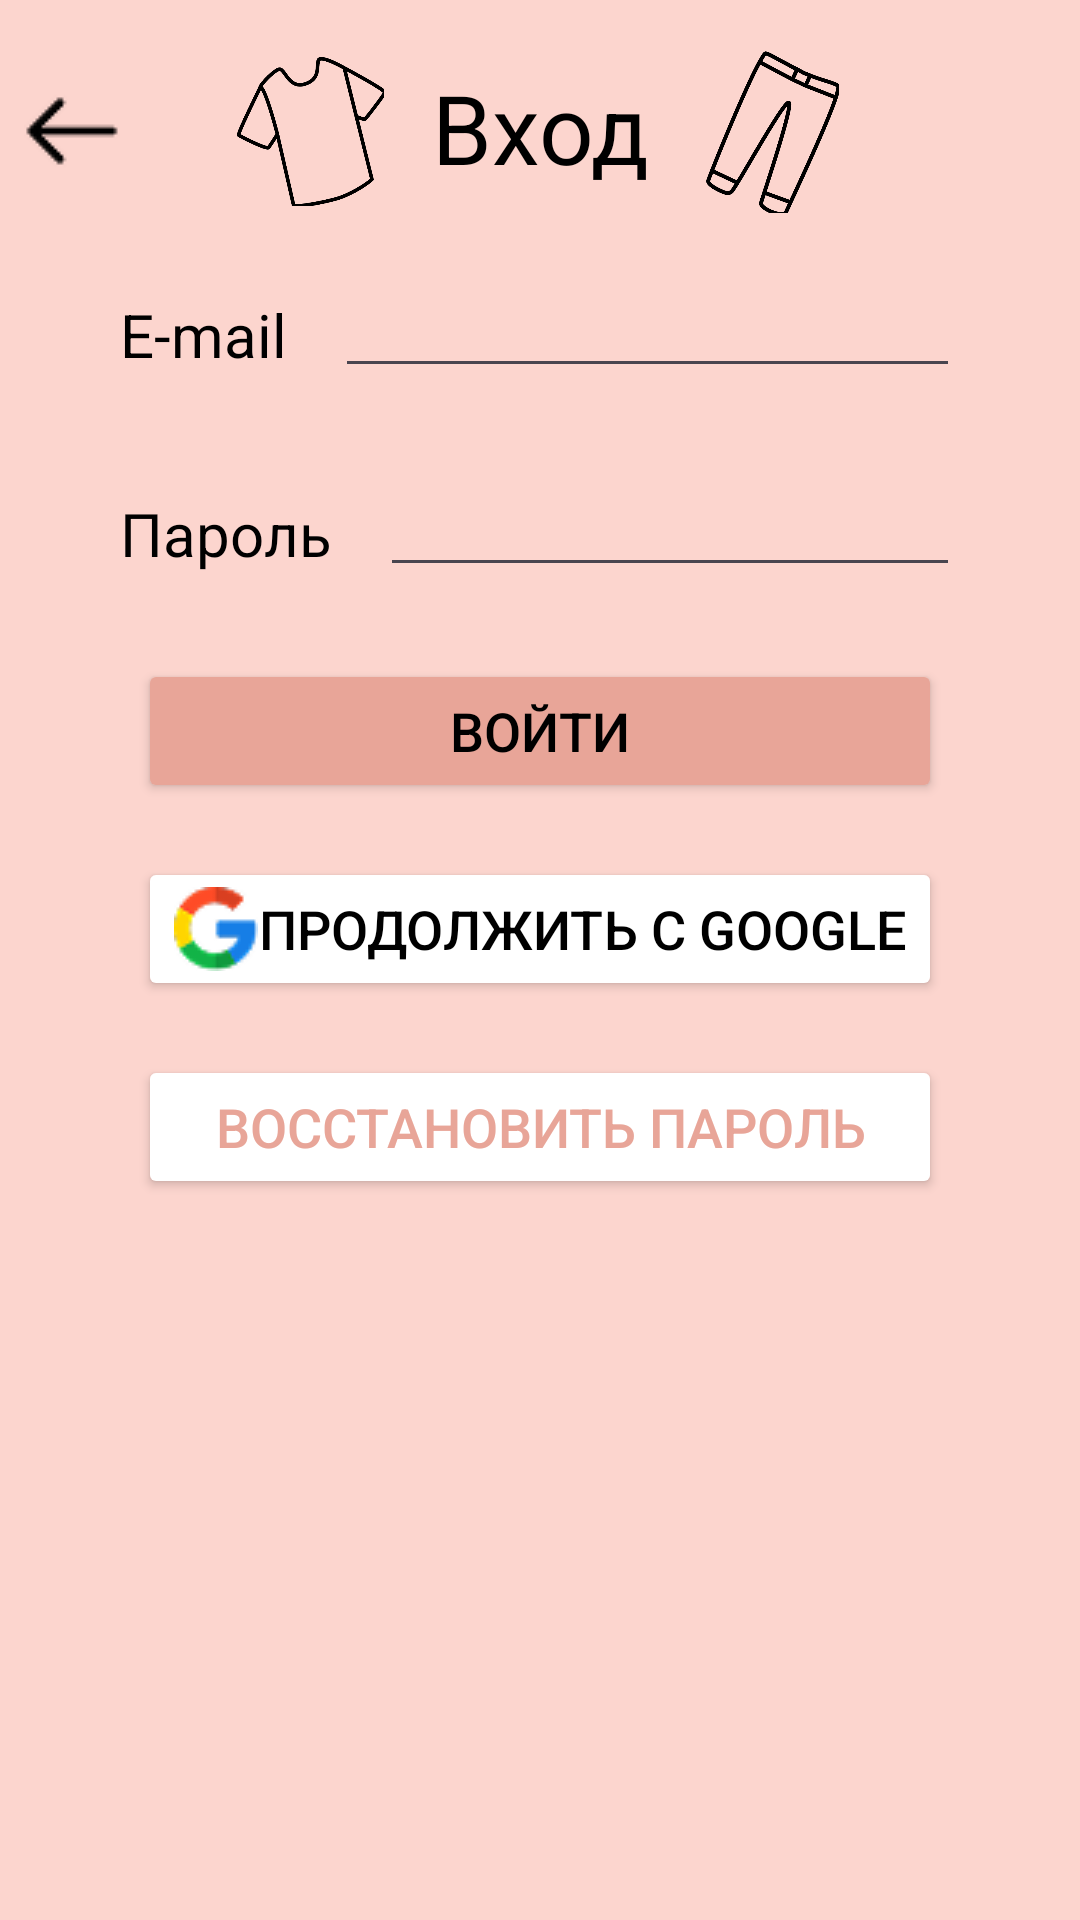

Icon click points for this 1080*1920 phone screenshot, format [x,y]:
back: [72,131]
pants: [772,132]
tshirt: [310,131]
